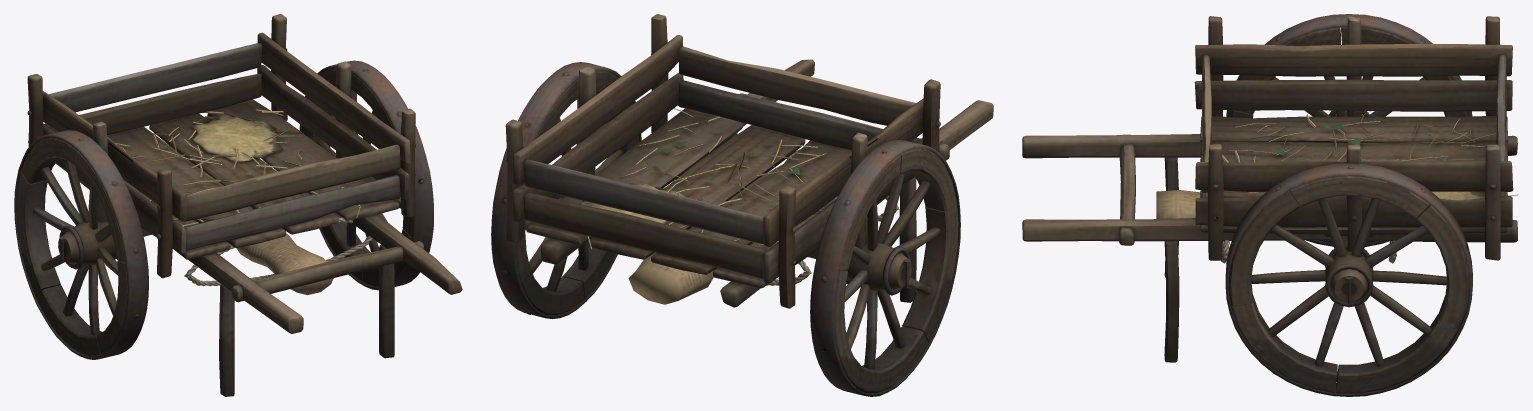
The model's file is cart.glb.
The picture shows the model from 3 angles, left to right: view 1: azimuth 30°, elevation 25°; view 2: azimuth 150°, elevation 25°; view 3: azimuth 270°, elevation 25°; orthographic projection. The views are drawn at different scales.
Parts seen in each view (by area): view 1: cart, Contents; view 2: cart, Contents; view 3: cart, Contents.
Part boxes in pixels (bbox=[...]): cart: bbox=[14, 14, 462, 396]; Contents: bbox=[184, 160, 372, 295]; cart: bbox=[491, 14, 993, 396]; Contents: bbox=[628, 149, 899, 304]; cart: bbox=[1022, 14, 1518, 396]; Contents: bbox=[1156, 190, 1396, 263].
Size of the model in its own units: 0.826 by 0.5293 by 1.
1 material, 1 textured.
